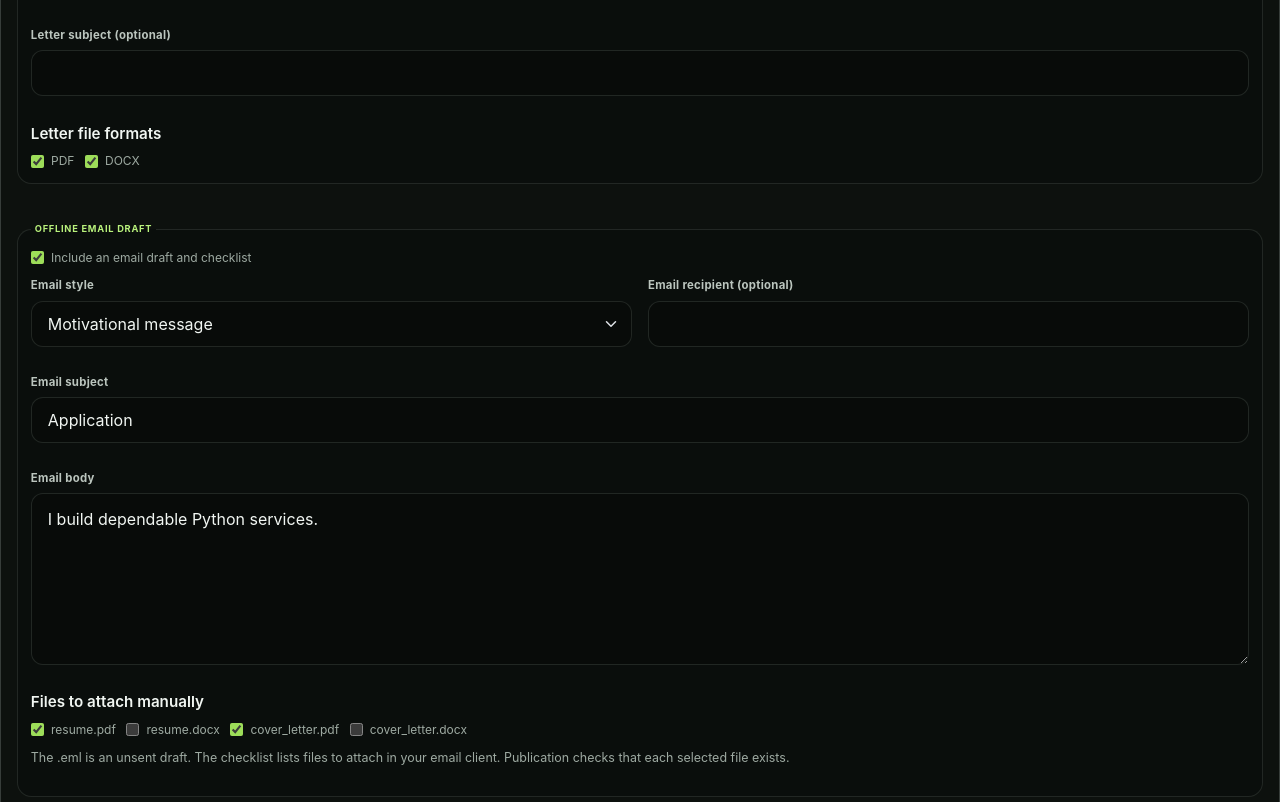
Test: MCP material preparation › does not replace unsaved material text with a refreshed proposal without a choice
(page scrolled)
Replace the text in the field labelled "Email subject" with "Local edit". click: coordinates (640, 420)
box: [31, 397, 1249, 443]
(page scrolled)
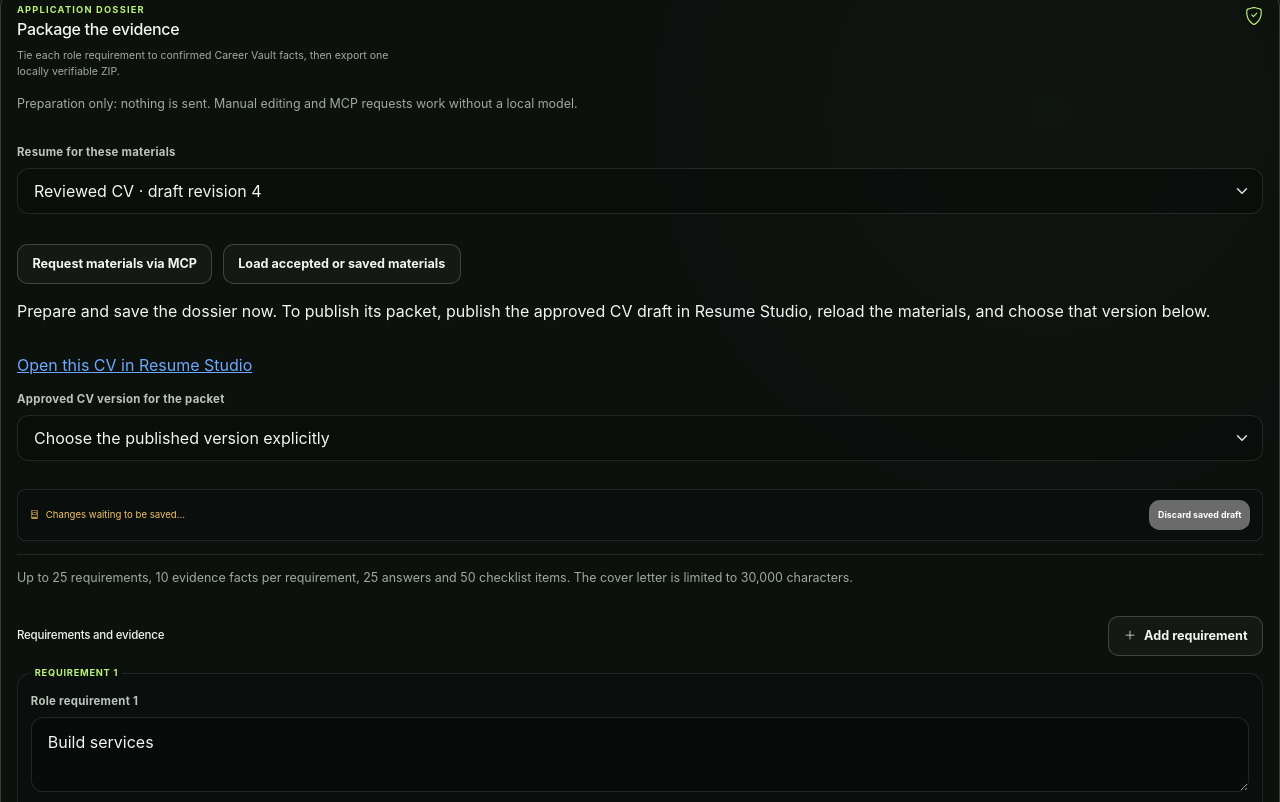
Click the button "Load accepted or saved materials". click: coordinates (342, 264)
box: [223, 244, 461, 284]
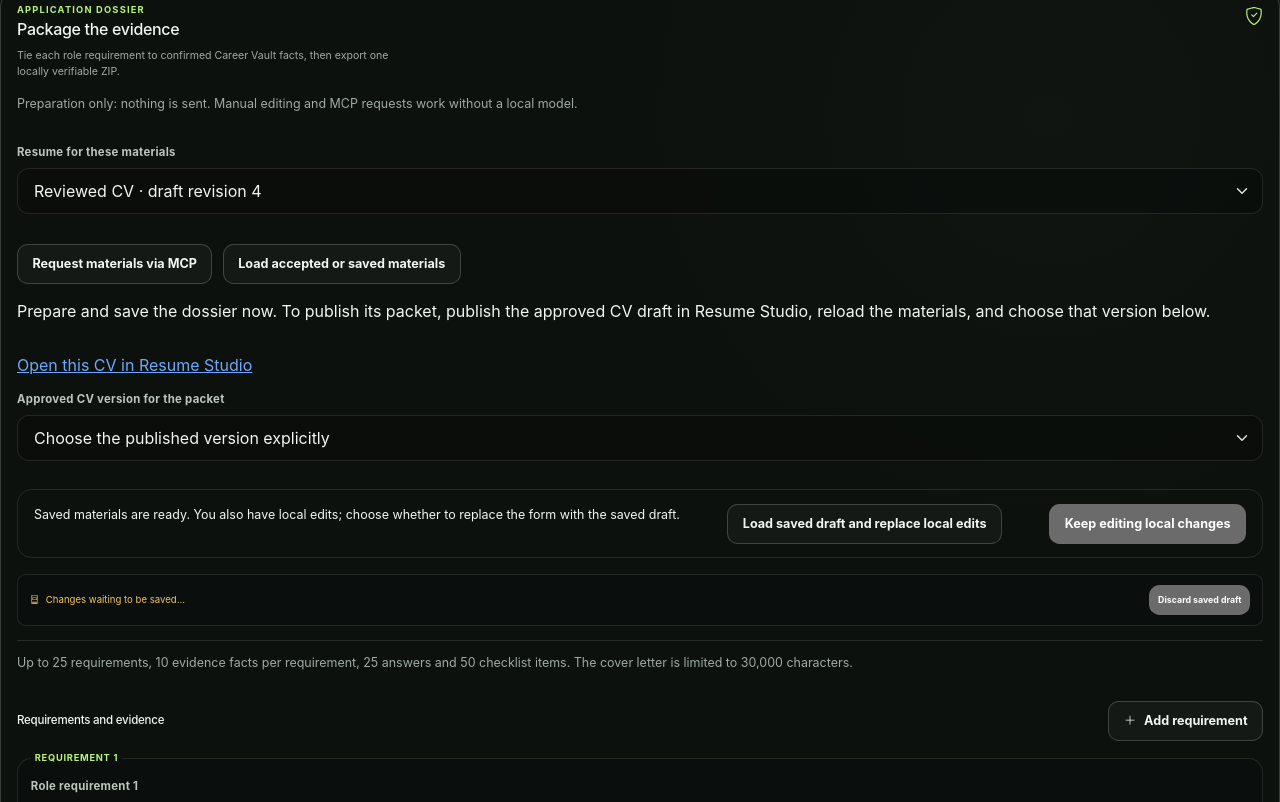
Click the button "Load saved draft and replace local edits". click: coordinates (865, 524)
box: [727, 504, 1002, 544]
(page scrolled)
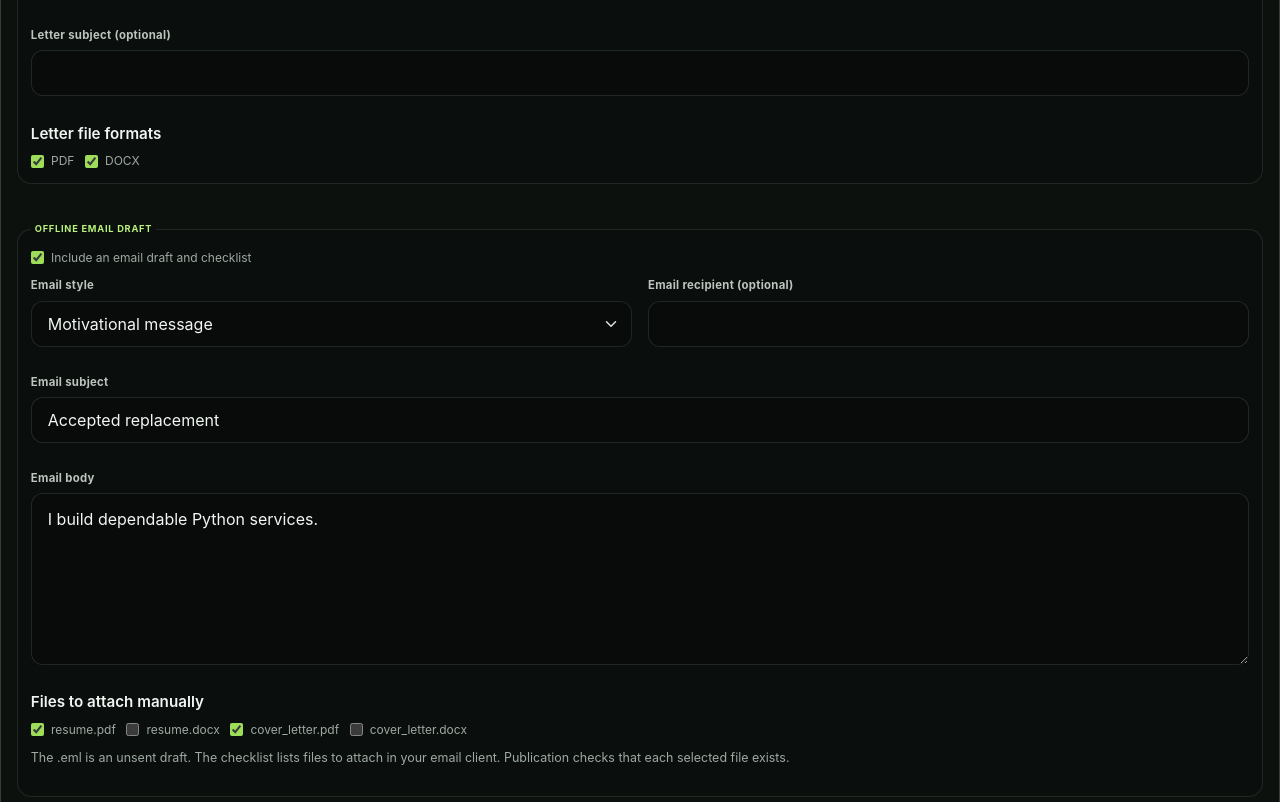
Check: the field labelled "Email subject" holds "Accepted replacement", box [31, 397, 1249, 443]
